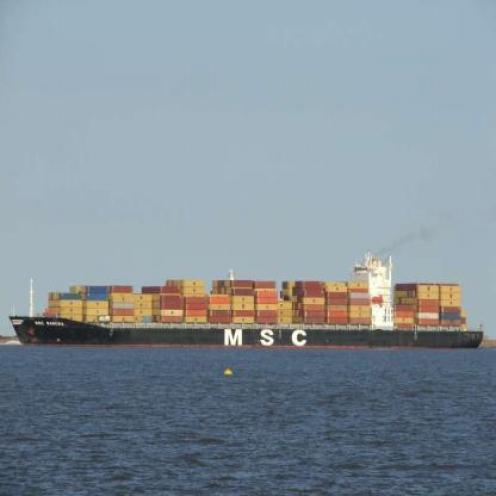Ship: (9, 276, 488, 356)
